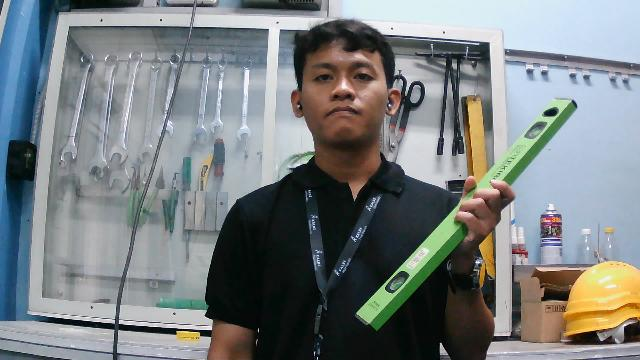water_pass: (353, 95, 579, 333)
